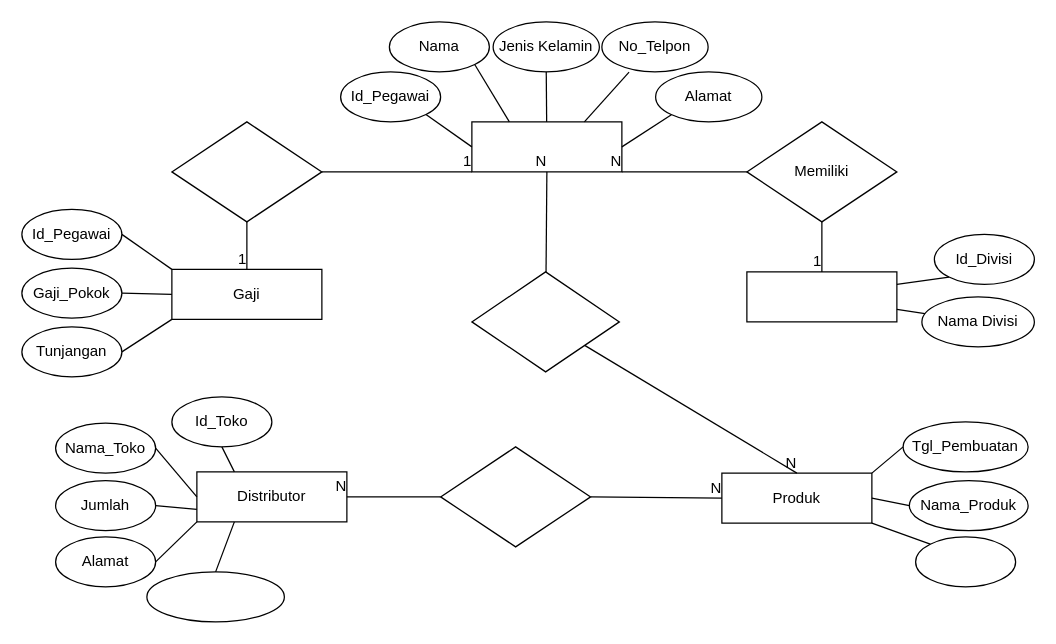
Image size: 1056x644. Some labels were removed from this diagram. The box of each missing label's shape, as (x1, y1, x2, y2) in pixels:
Divisi: (746, 271, 897, 322)
Id_Produk: (914, 536, 1016, 587)
Membuat: (471, 271, 619, 372)
Mendapatkan: (171, 121, 322, 222)
Mendistribusikan: (439, 446, 591, 547)
Pegawai: (471, 121, 622, 172)
Tgl_Pengiriman: (146, 571, 284, 622)
